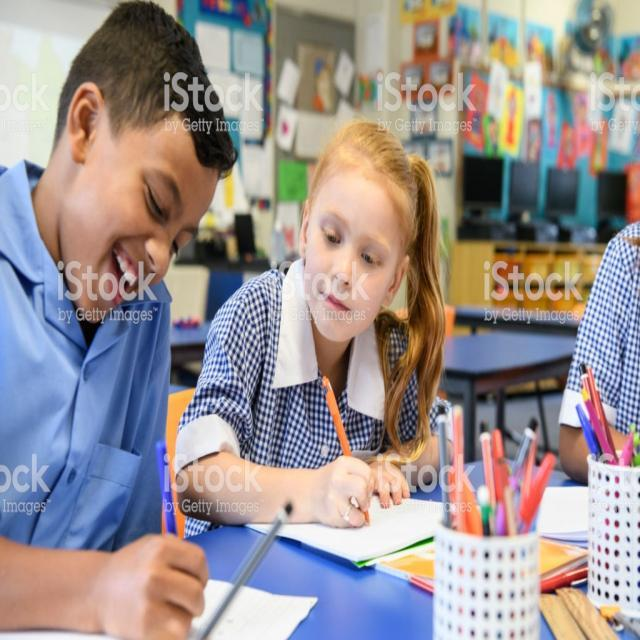cheating: (182, 113, 465, 558)
good: (0, 2, 235, 640)
